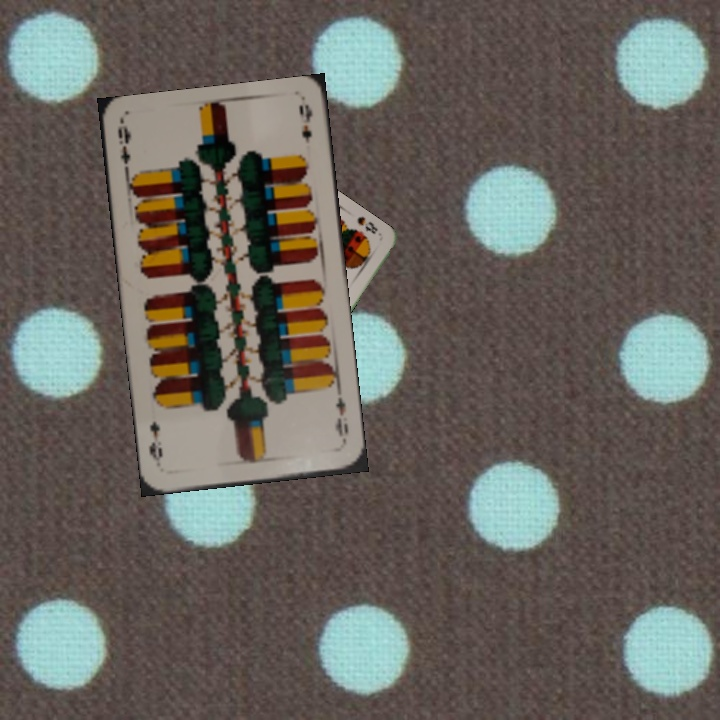E9: (113, 121, 140, 180), (331, 393, 351, 447)
S8: (353, 212, 381, 237)
